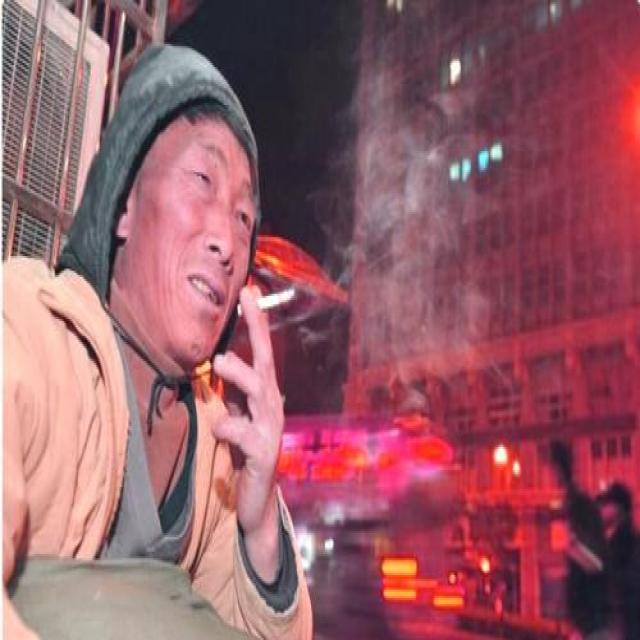cigarette: (215, 271, 302, 350)
